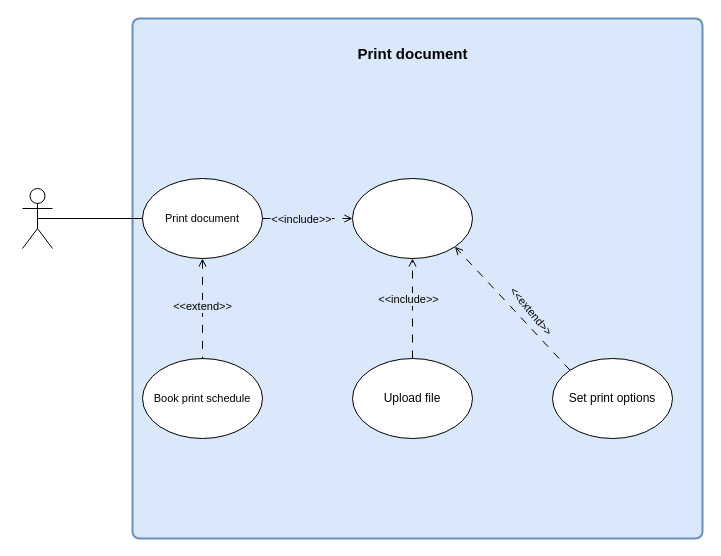
The diagram is 721 pixels wide and 556 high, and some of its shapes have lost their labels. The shapes that lost their labels are listed below. From the top down, each one's centre as x and y in pixels, then its label:
At pixel 37 218: "Student".
At pixel 412 218: "Choose printer".
